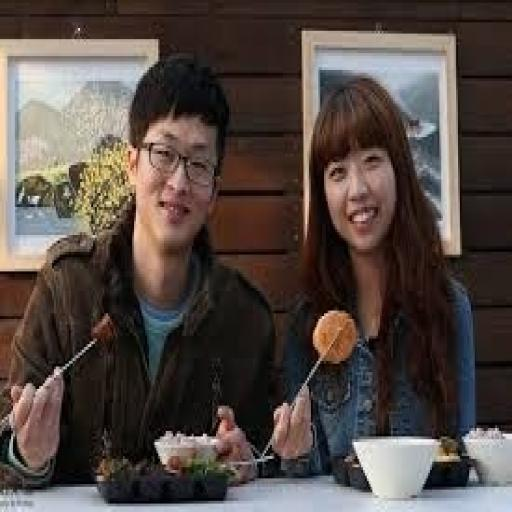eating: (0, 50, 315, 490)
